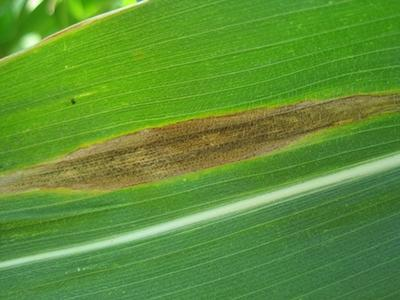Corn_Blight: (5, 89, 400, 198)
